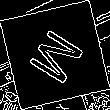M_SE: (21, 22, 89, 88)
